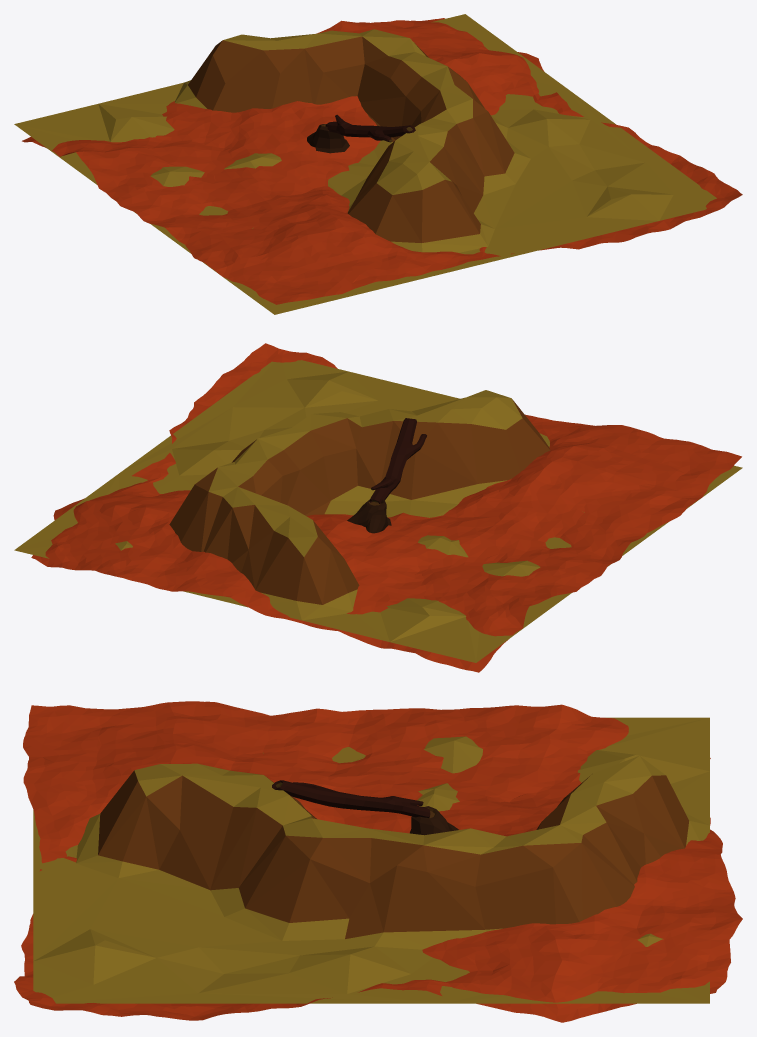
Rendered from Stage1.FBX.
The picture shows the model from 3 angles, top to bottom: view 1: azimuth 30°, elevation 25°; view 2: azimuth 150°, elevation 25°; view 3: azimuth 270°, elevation 25°; orthographic projection. The views are drawn at different scales.
Visible parts, largest first — view 1: Terrain_1, Environment_1, Log_1, Log_3; view 2: Terrain_1, Environment_1, Log_1, Log_3; view 3: Terrain_1, Environment_1, Log_1, Log_3.
Boxes of the visible parts, x1,y1,x2,y2 form: Terrain_1: (14,14,716,314); Environment_1: (22,18,742,304); Log_1: (325,114,415,142); Log_3: (307,124,349,153); Terrain_1: (14,360,742,662); Environment_1: (31,343,741,672); Log_1: (369,418,426,503); Log_3: (347,499,391,533); Terrain_1: (33,717,709,1003); Environment_1: (14,701,742,1022); Log_1: (272,780,430,817); Log_3: (410,806,458,835).
Bounding box in the file's own units: 2142 × 2155 × 352.
